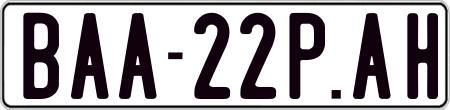2: (192, 10, 233, 102), (238, 13, 280, 99)
A: (119, 10, 163, 97), (351, 13, 390, 104), (69, 11, 107, 98)
B: (20, 12, 61, 100)
H: (404, 12, 435, 98)
P: (287, 10, 328, 100)
